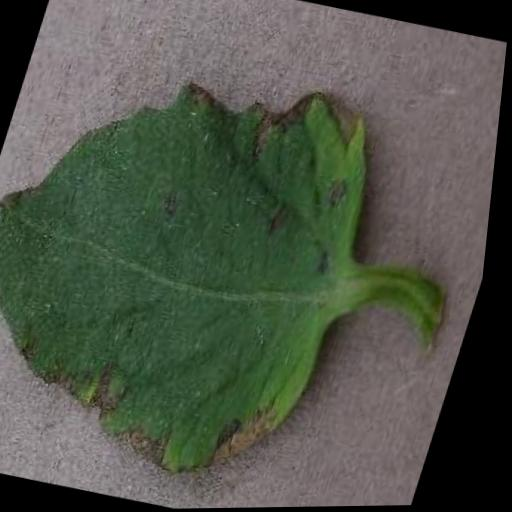Bacterial Spot: (0, 28, 408, 502)
